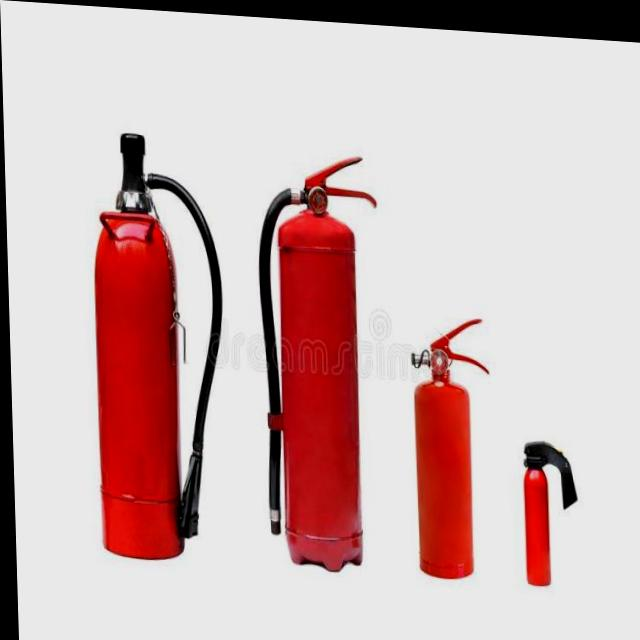FireExtinguisher: (84, 123, 228, 566), (251, 141, 389, 573), (406, 305, 495, 577), (515, 424, 581, 583)
